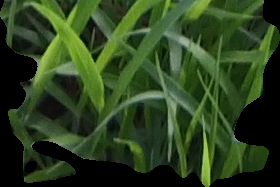grass: (1, 1, 279, 186)
